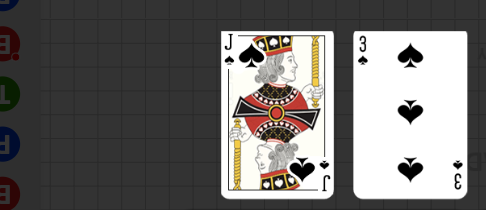3S: (357, 35, 370, 68)
JS: (222, 33, 266, 80), (289, 154, 333, 200)
